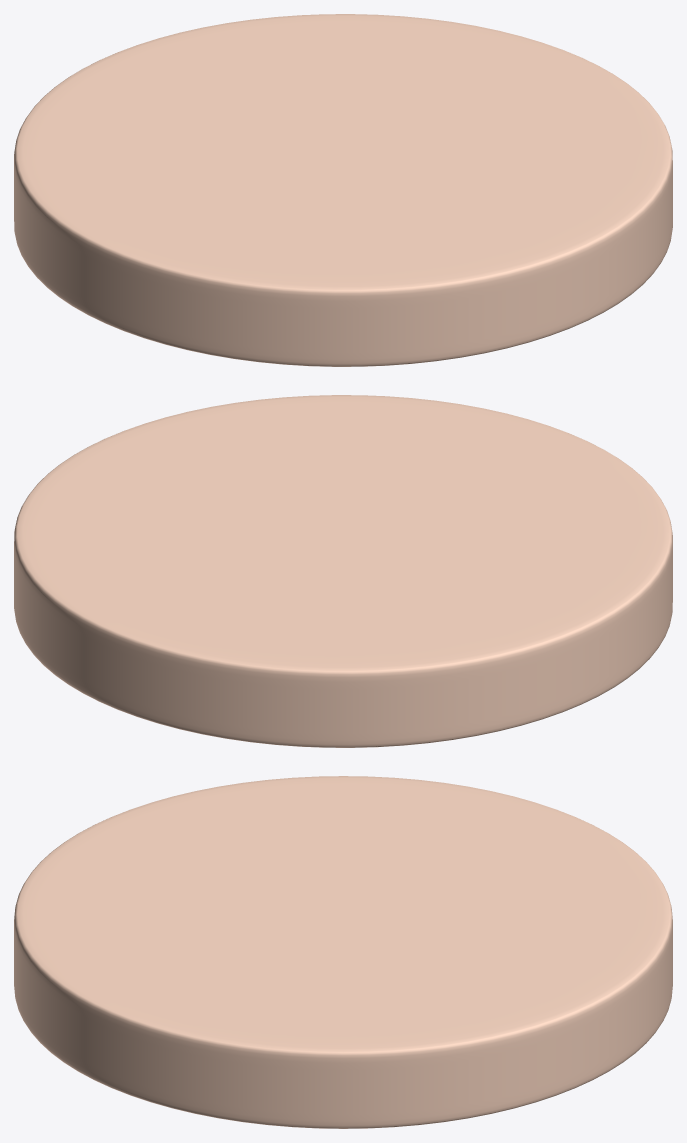
Rendered from pad.glb.
3 views of the same model, one above another, from view 1: azimuth 30°, elevation 25°; view 2: azimuth 150°, elevation 25°; view 3: azimuth 270°, elevation 25° (orthographic).
Parts seen in each view (by area): view 1: Floor_Pad_geo; view 2: Floor_Pad_geo; view 3: Floor_Pad_geo.
Boxes of the visible parts, x1,y1,x2,y2 form: Floor_Pad_geo: (14, 14, 672, 366); Floor_Pad_geo: (14, 395, 672, 747); Floor_Pad_geo: (14, 776, 672, 1128).
Bounding box in the file's own units: 0.971 × 0.1271 × 0.971.
